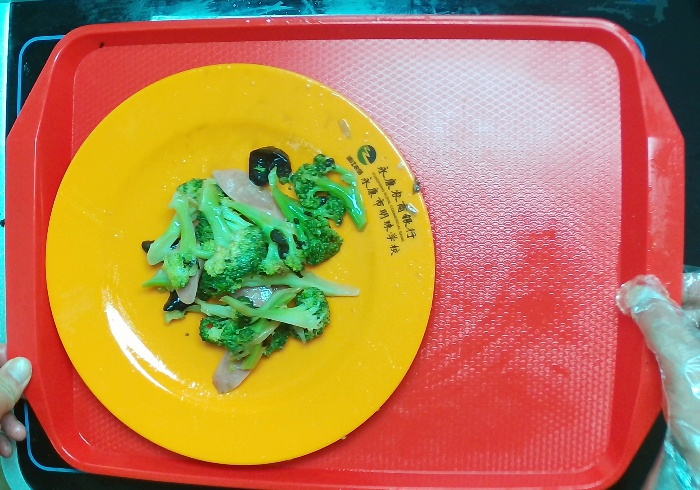YKMZ-Ju_Se_Mian_Pan: (35, 53, 450, 473)
